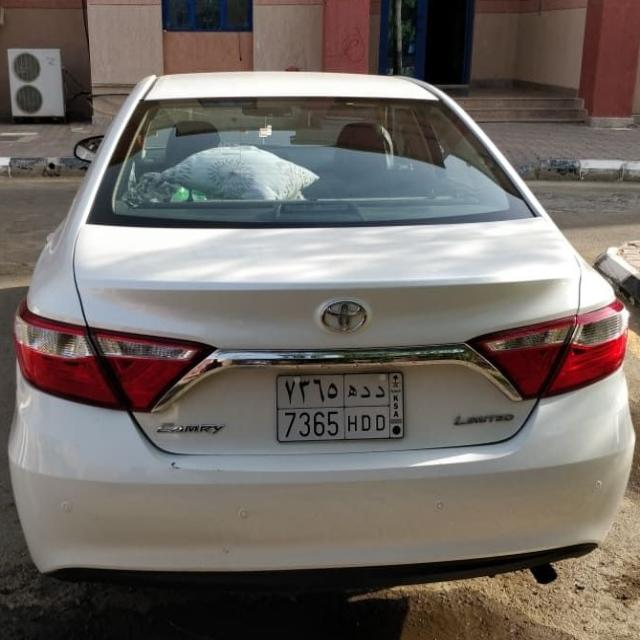license_plate: (272, 368, 408, 445)
